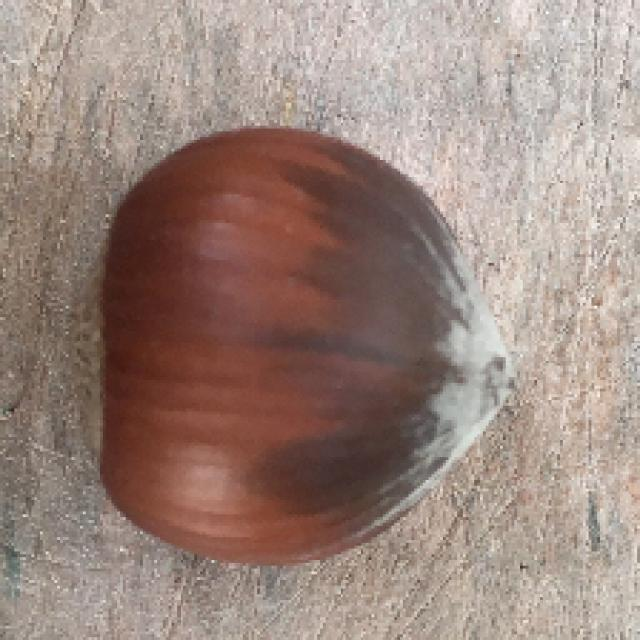DamagedHazelnut: (70, 126, 521, 567)
